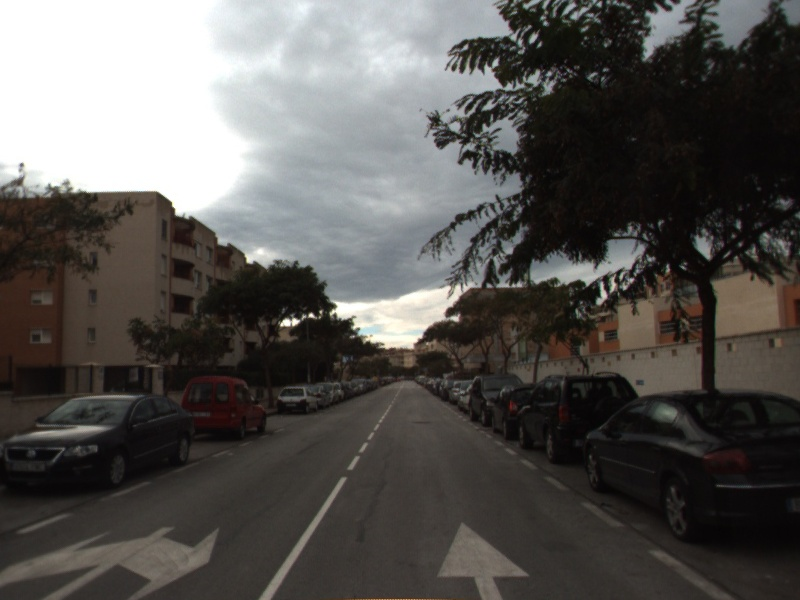STRAIGHT: (433, 519, 534, 600)
